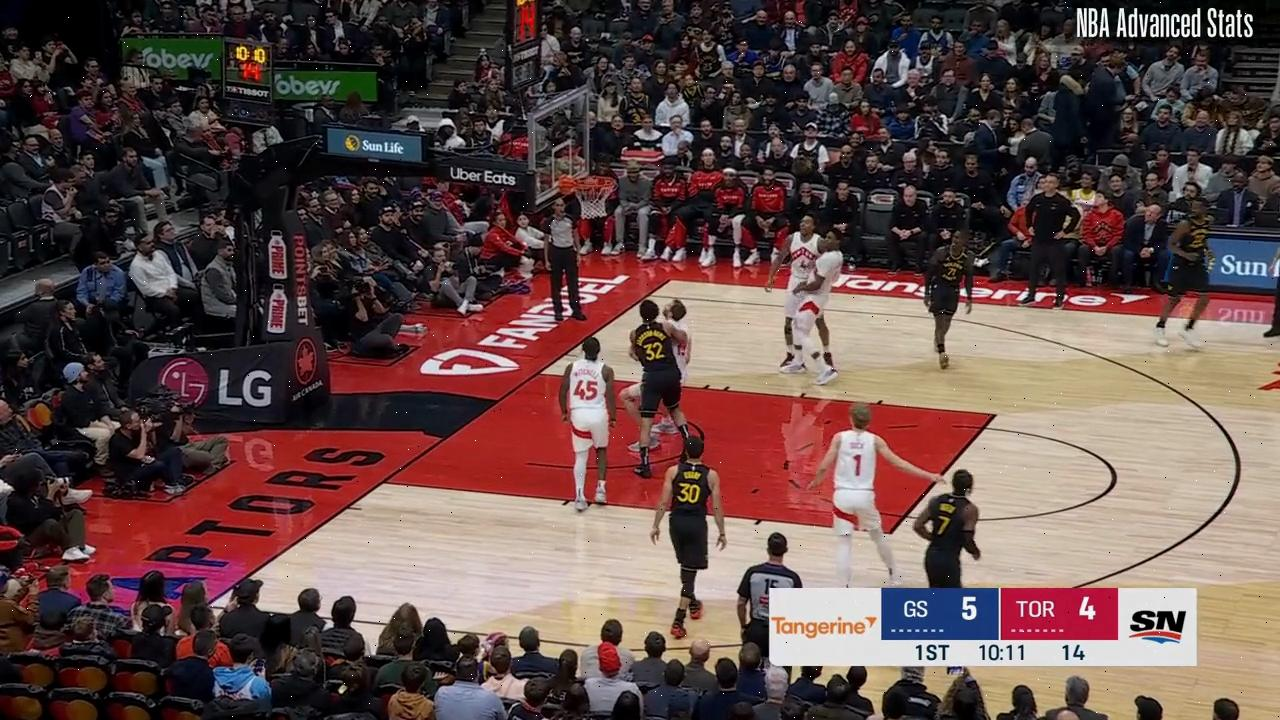basketball: (582, 177, 604, 199)
